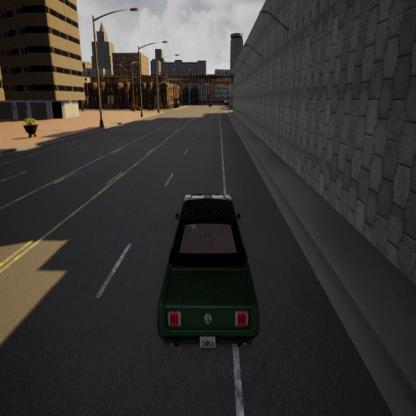Cars: (158, 174, 265, 367)
